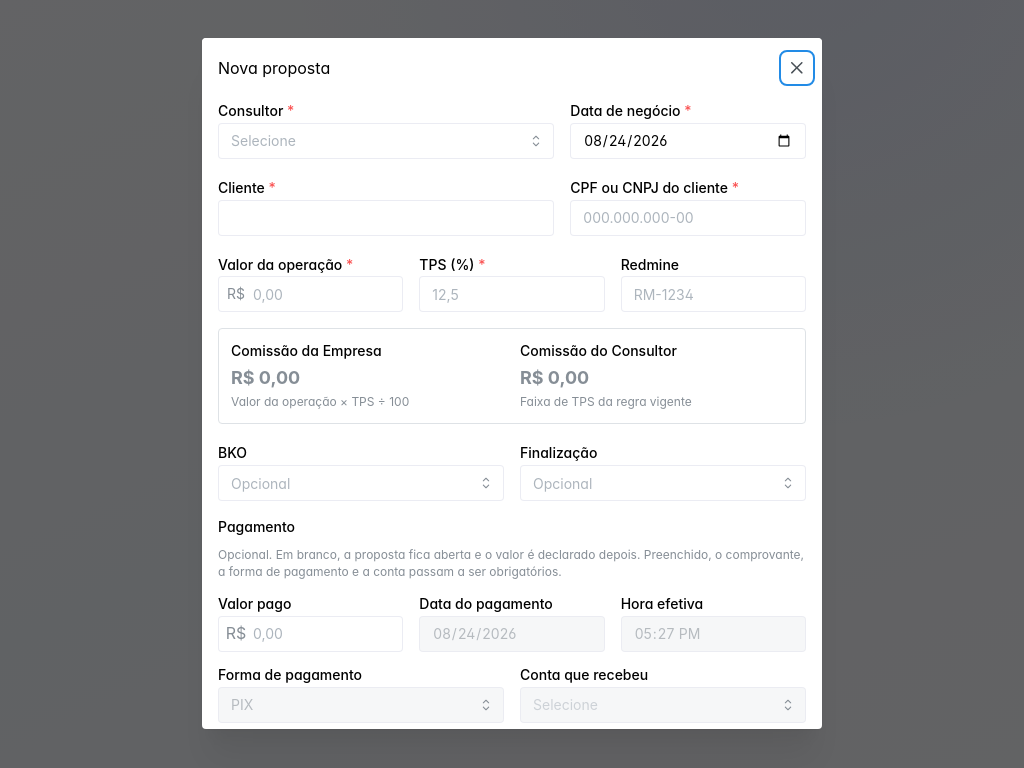
ProposalFormModal › mascara o valor da operação enquanto se digita
Type "1462964" into the field labelled "Valor da operação *" at (311, 295), box 218,277 -> 403,313
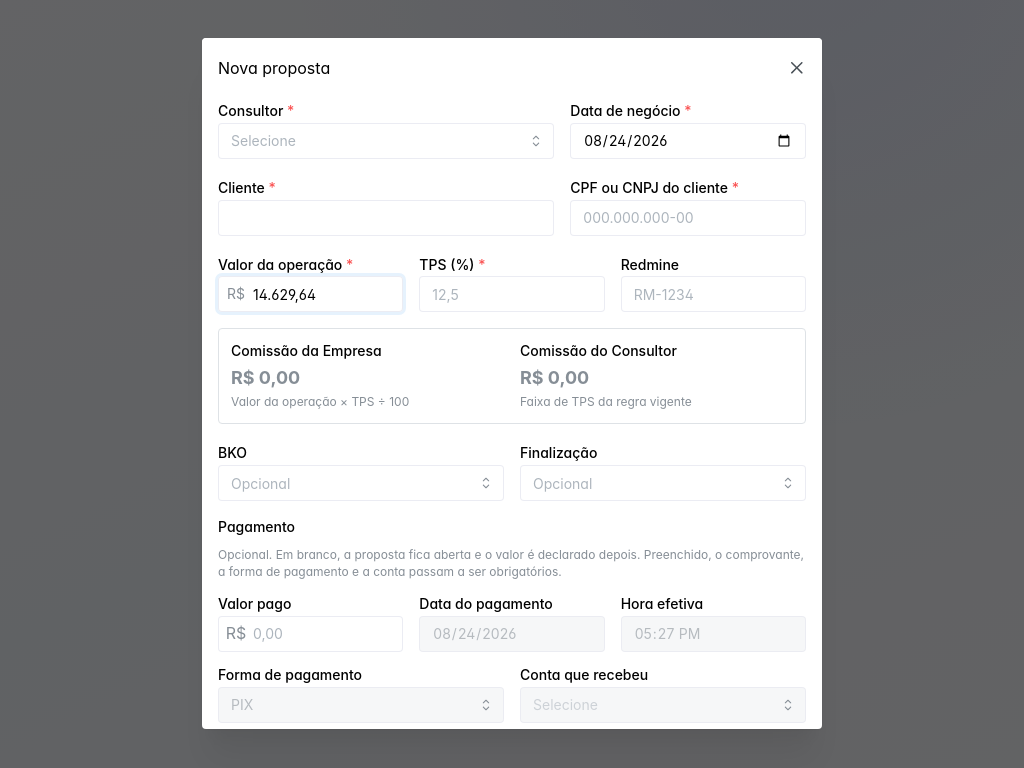
Now the field labelled "Valor da operação *" holds "14.629,64", box 218,277 -> 403,313
